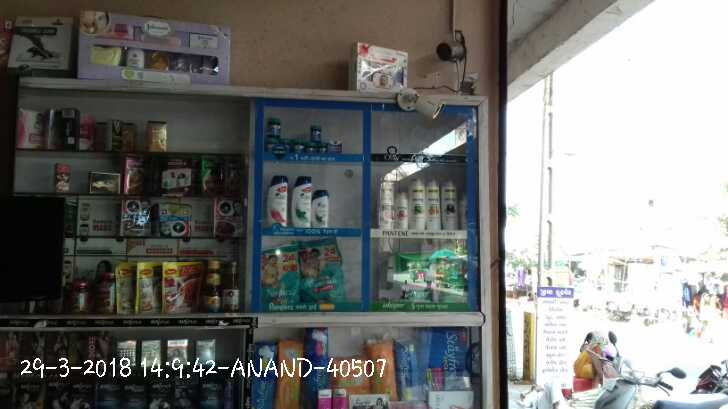vicks: (267, 119, 283, 134), (293, 139, 305, 156), (311, 125, 323, 140)
